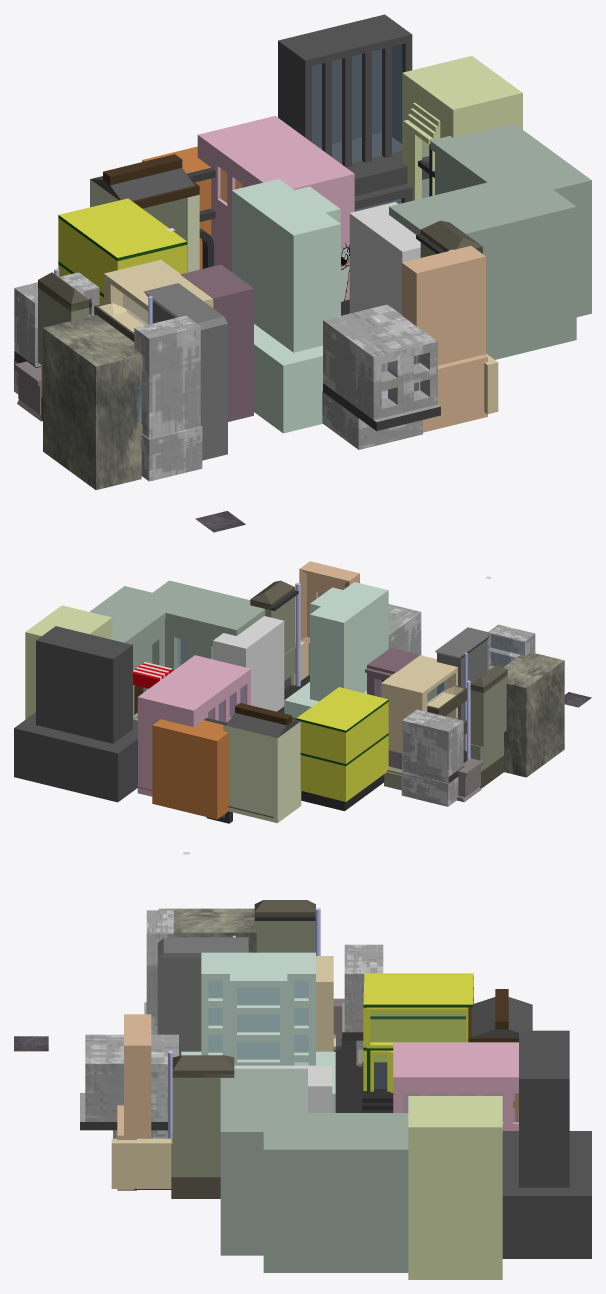
File: mapa1.3.glb
3 renders of one model, top to bottom at view 1: azimuth 30°, elevation 25°; view 2: azimuth 150°, elevation 25°; view 3: azimuth 270°, elevation 25°, orthographic. The views are drawn at different scales.
Visible parts, largest first — view 1: Cube.004, Cube.061, Cube.138, predio.001, Cube.002, predio.005, Cube.064, Cube.136, prediogaragem01, Cube.052, Cube.063, predio (+9 smaller); view 2: Cube.138, Cube.004, Cube.052, Cube.061, Cube.063, Cube.062, Cube.064, predio.001, Cube.054, predio.002, Cube.095, predio.003 (+12 smaller); view 3: Cube.004, Cube.136, Cube.138, Cube.061, Cube.052, predio.004, Cube.064, Cube.002, predio, predio.005, predio.003, Cube.096 (+9 smaller).
Part boxes in pixels (box(x1,y1,x2,y2)): Cube.004: box(389, 123, 591, 359); Cube.061: box(232, 179, 340, 433); Cube.138: box(278, 14, 429, 211); predio.001: box(43, 315, 142, 489); Cube.002: box(322, 304, 440, 449); predio.005: box(402, 246, 487, 432); Cube.064: box(197, 116, 354, 300); Cube.136: box(402, 56, 522, 200); prediogaragem01: box(134, 315, 202, 481); Cube.052: box(58, 198, 187, 304); Cube.063: box(90, 154, 199, 272); predio: box(143, 283, 227, 460); Cube.138: box(14, 626, 137, 802); Cube.004: box(89, 580, 265, 720); Cube.052: box(296, 687, 388, 801); Cube.061: box(284, 582, 388, 718); Cube.063: box(223, 703, 301, 823); Cube.062: box(152, 718, 232, 823); Cube.064: box(137, 655, 250, 796); predio.001: box(503, 652, 564, 777); Cube.054: box(401, 709, 464, 806); predio.002: box(381, 655, 466, 769); Cube.095: box(213, 616, 284, 711); predio.003: box(467, 664, 507, 788); Cube.004: box(220, 1068, 408, 1272); Cube.136: box(408, 1096, 502, 1279); Cube.138: box(502, 1030, 591, 1258); Cube.061: box(181, 952, 335, 1112); Cube.052: box(363, 973, 473, 1092); predio.004: box(168, 1050, 234, 1198); Cube.064: box(393, 1042, 518, 1130); Cube.002: box(80, 1034, 178, 1138); predio: box(157, 935, 248, 1055); predio.005: box(117, 1014, 151, 1190); predio.003: box(254, 900, 320, 955); Cube.096: box(111, 1138, 171, 1188).
Size of the model in its own units: 558 by 243 by 536.
Materials: 84 (10 with a texture image).
